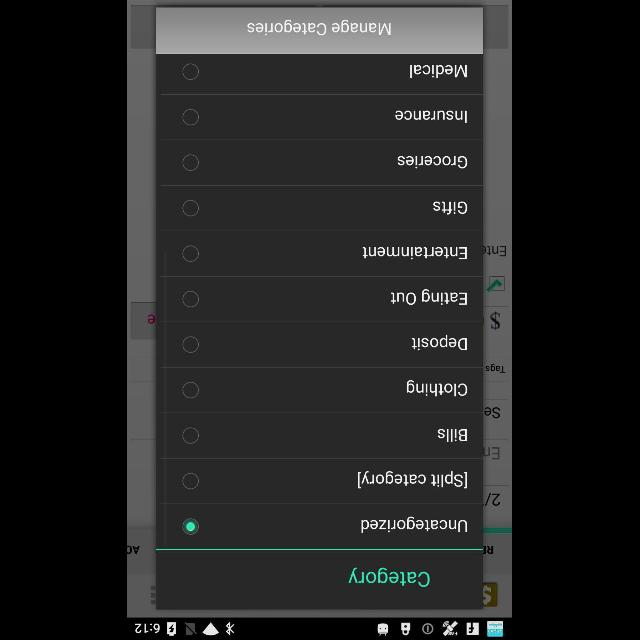checkbox: (182, 336, 200, 354), (182, 245, 200, 262), (182, 518, 200, 534), (183, 472, 199, 490), (182, 428, 200, 444), (182, 200, 200, 216), (182, 109, 200, 125), (182, 64, 200, 80), (183, 382, 199, 398), (184, 291, 200, 307), (183, 155, 199, 171)
panel: (156, 7, 484, 609)
text: (358, 470, 468, 488), (362, 516, 468, 532), (349, 567, 431, 587), (362, 247, 468, 260), (392, 288, 468, 306), (408, 379, 468, 396), (396, 110, 468, 124), (412, 334, 468, 350), (398, 156, 468, 168), (410, 65, 468, 79), (434, 201, 468, 215), (438, 428, 468, 442)
textbutton: (156, 8, 484, 54)
uppertaskbar: (128, 617, 512, 639)
